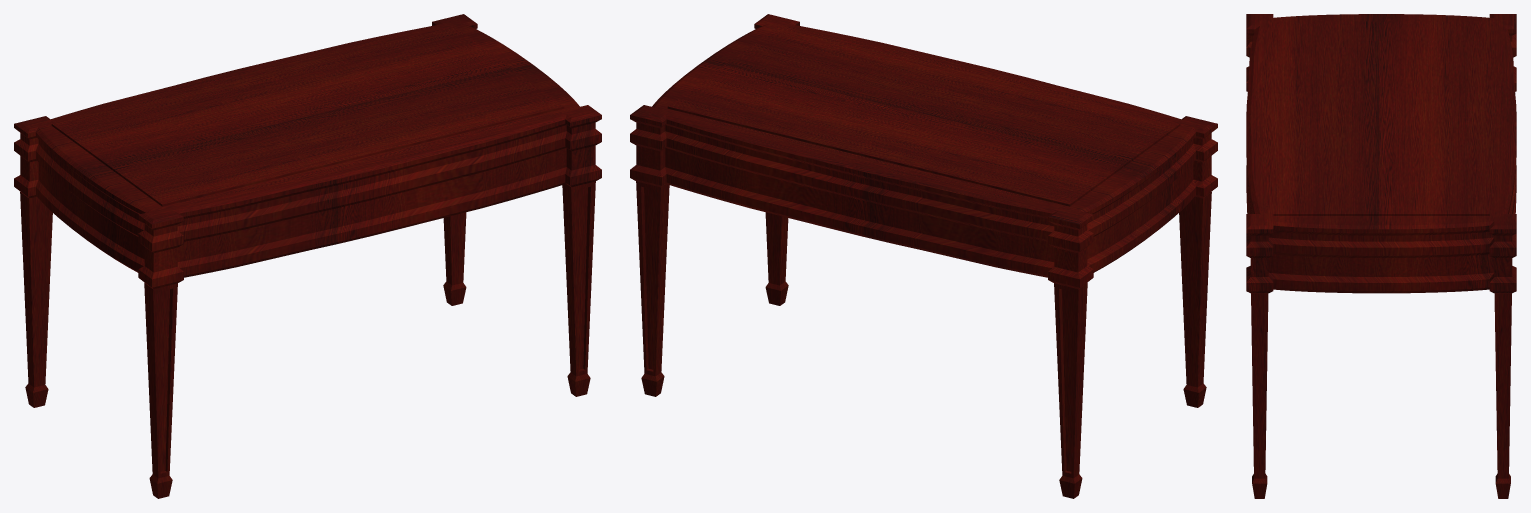
Rendered from Table.FBX.
3 views of the same model, side by side, from view 1: azimuth 30°, elevation 25°; view 2: azimuth 150°, elevation 25°; view 3: azimuth 270°, elevation 25° (orthographic).
Parts seen in each view (by area): view 1: Table; view 2: Table; view 3: Table.
Part boxes in pixels (x1,y1,x2,y2): Table: (14,14,601,498); Table: (630,14,1217,498); Table: (1246,14,1516,498).
Size of the model in its own units: 113 by 68.18 by 60.
1 material, 1 textured.
